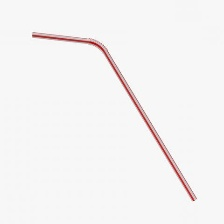drinking_straw: (29, 26, 199, 203)
